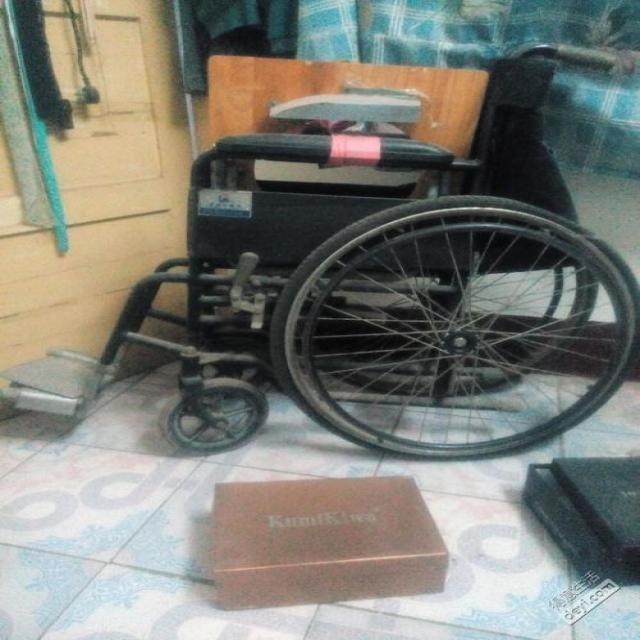wheelchair: (0, 45, 634, 471)
